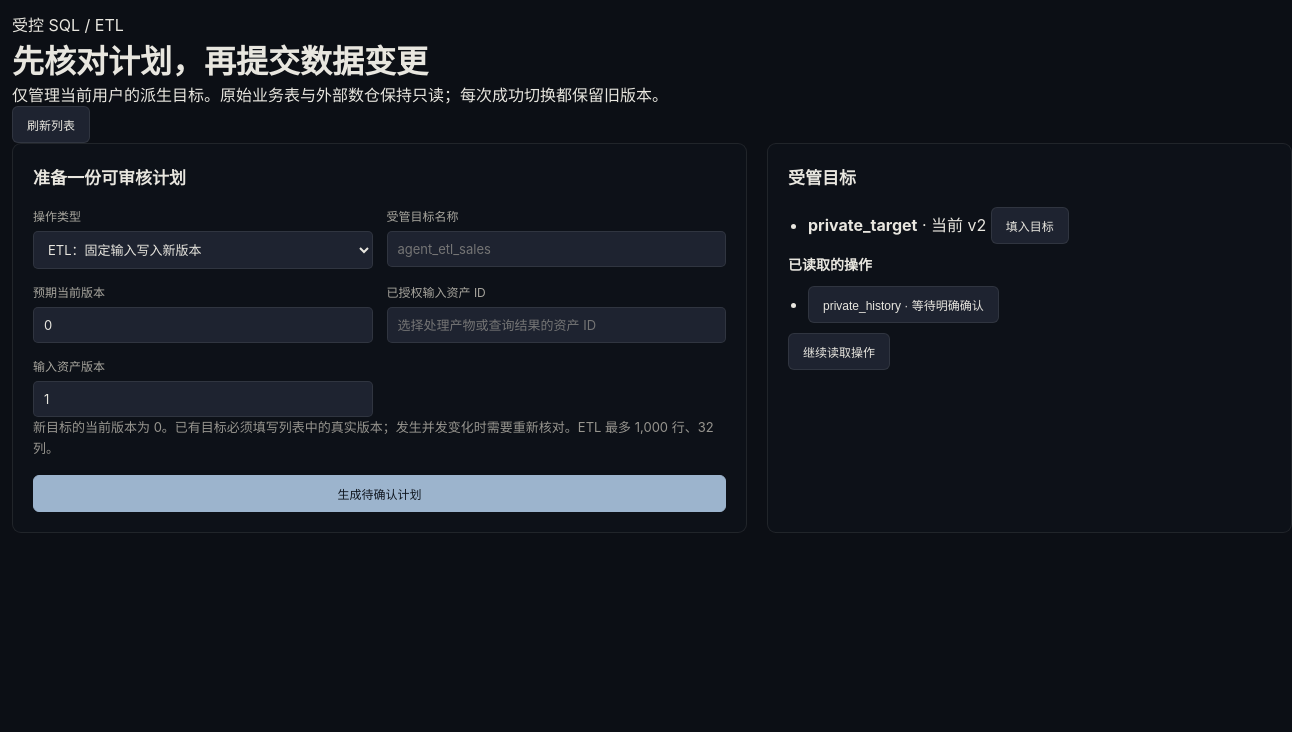
Scenario: governed operation confirmation workbench › clears revoked list data and pagination after HTTP 401
The width and height of the screenshot is (1292, 732).
Step 1. Click the button "刷新列表" → (51, 124), box [12,106,90,143]
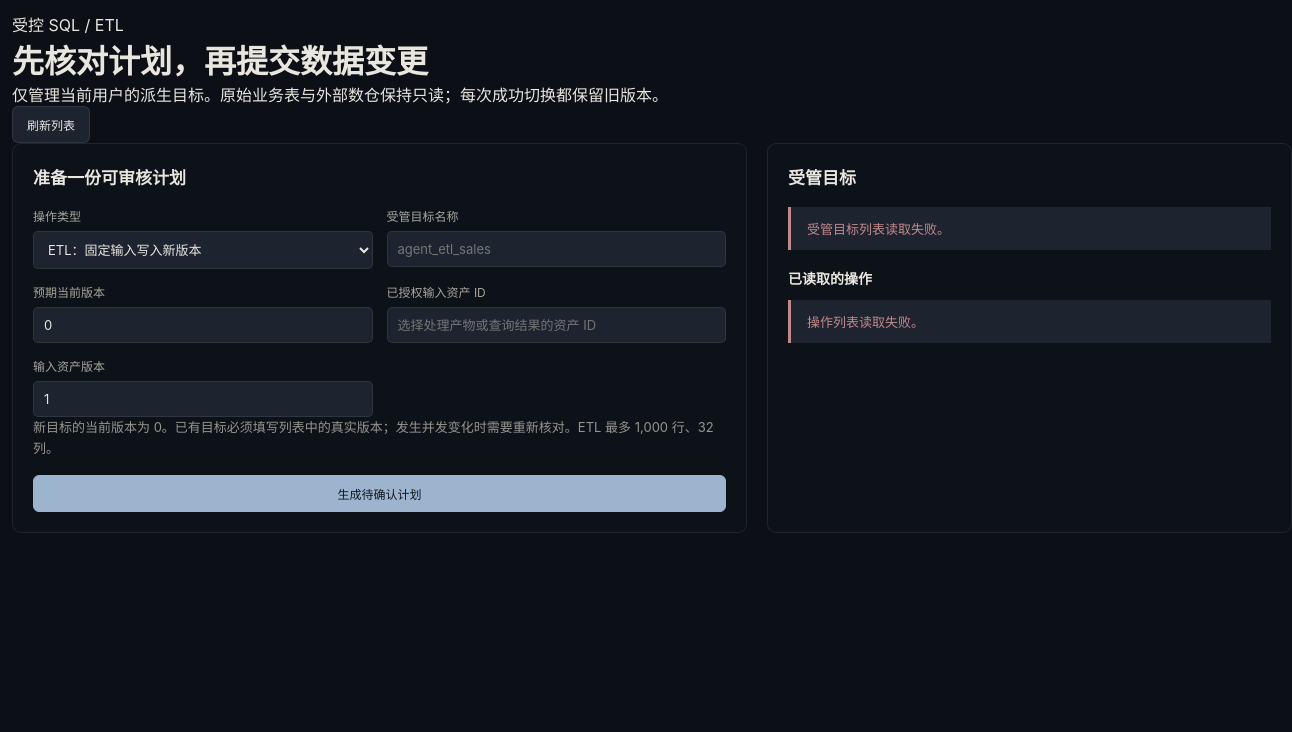
Expected: the text "private_target" is gone
Expected: the text "private_history" is gone
Expected: the text "受管目标列表读取失败" is shown, [807,221,950,237]
